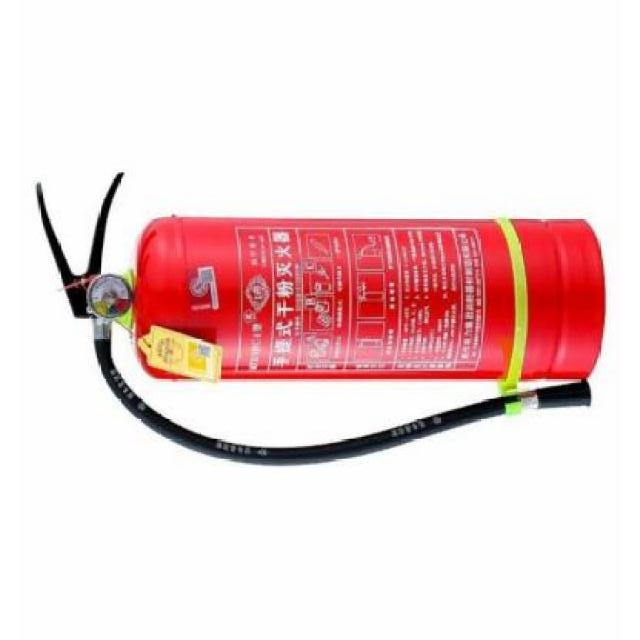fire extinguisher: (37, 173, 606, 465)
